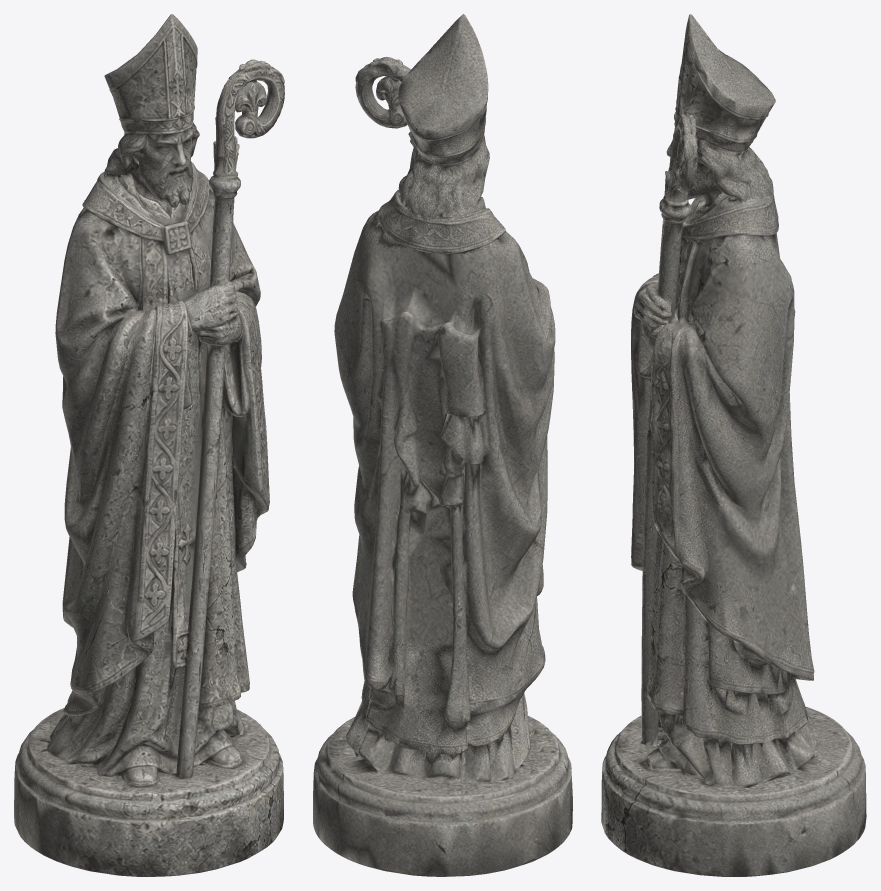
3 renders of one model, left to right at view 1: azimuth 30°, elevation 25°; view 2: azimuth 150°, elevation 25°; view 3: azimuth 270°, elevation 25°, orthographic. The views are drawn at different scales.
Size of the model in its own units: 0.3824 by 1.29 by 0.3829.
1 material, 1 textured.
